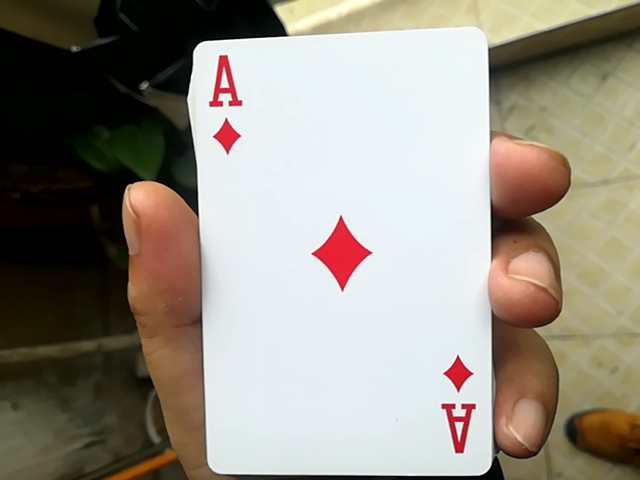fk a: (176, 15, 493, 472)
